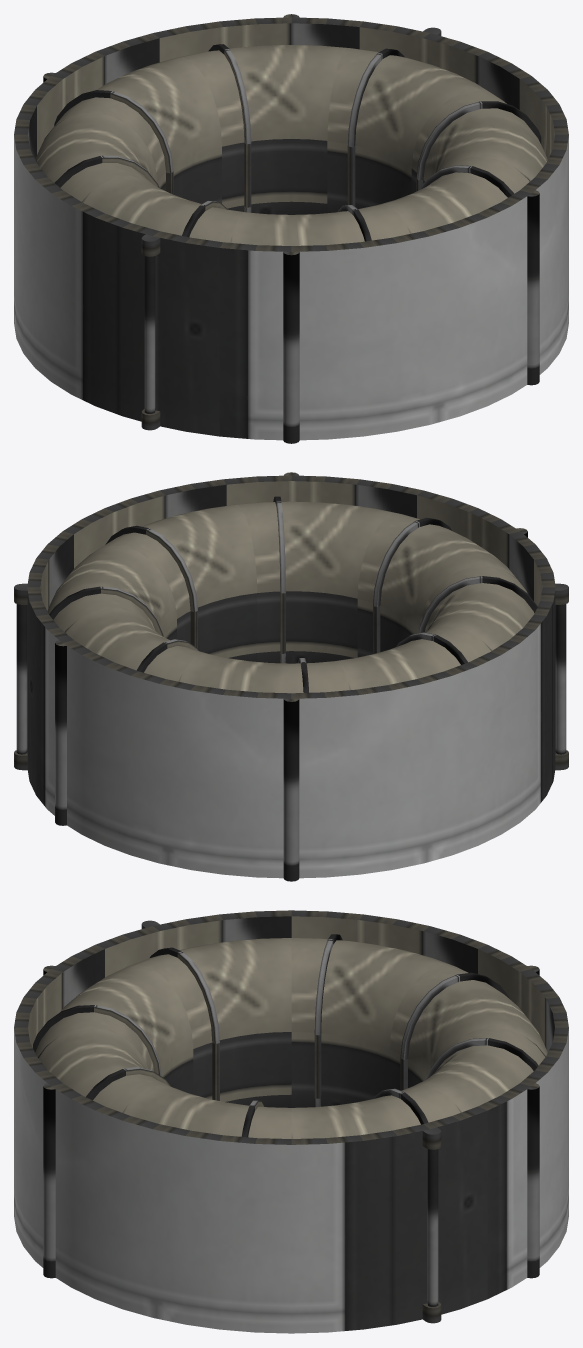
Rendered from rotanev_toroidal_fuel_tank_s4_1.obj.
3 views of the same model, one above another, from view 1: azimuth 30°, elevation 25°; view 2: azimuth 150°, elevation 25°; view 3: azimuth 270°, elevation 25° (orthographic). The views are drawn at different scales.
Parts seen in each view (by area): view 1: 2; view 2: 2; view 3: 2.
Part boxes in pixels (x1=…): 2: x1=14, y1=14, x2=568, y2=443; 2: x1=14, y1=472, x2=568, y2=881; 2: x1=14, y1=910, x2=568, y2=1333.
Size of the model in its own units: 5 by 1.98 by 5.
